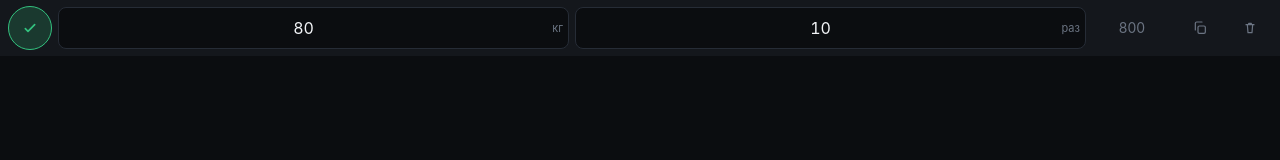
Test: WorkoutSetRow › rejects invalid input by restoring the previous value
Replace the text in the field named "Повторения подхода 1" with "0" at coordinates (830, 28), box x1=575 y1=7 x2=1086 y2=49
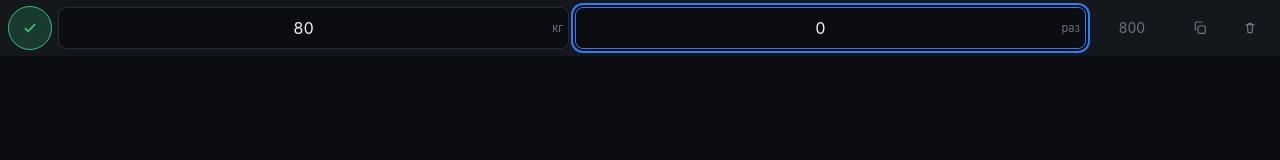
Press Tab
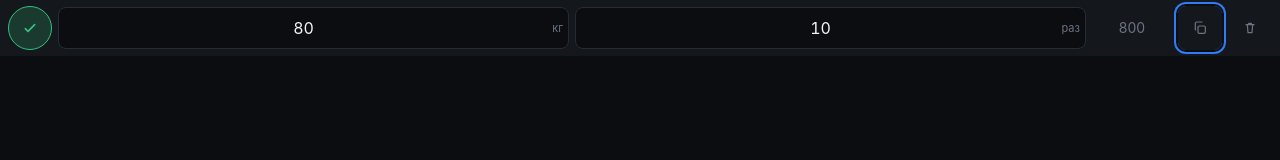
Check: the field named "Повторения подхода 1" holds "10", box x1=575 y1=7 x2=1086 y2=49
